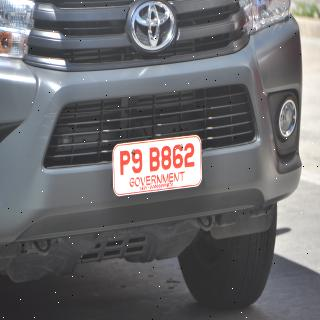license: (114, 137, 203, 197)
